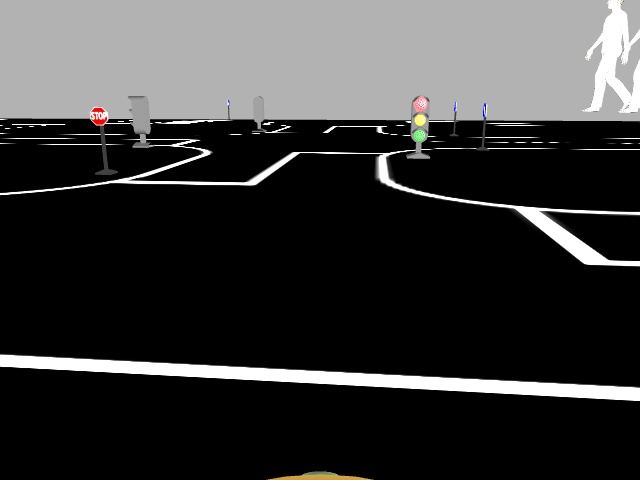Stop: (88, 105, 107, 126)
TrafficLight: (409, 94, 430, 142)
